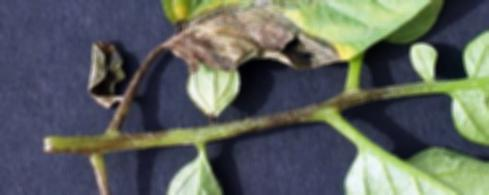Tomato leaf late blight: (150, 0, 463, 90)
